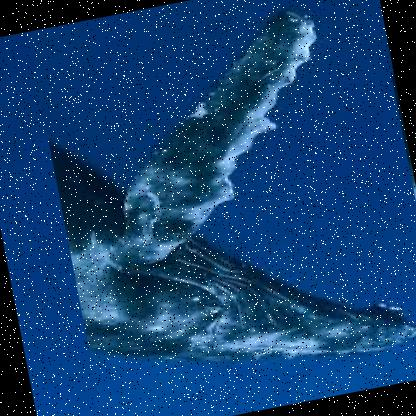blue_whale: (27, 0, 415, 412)
